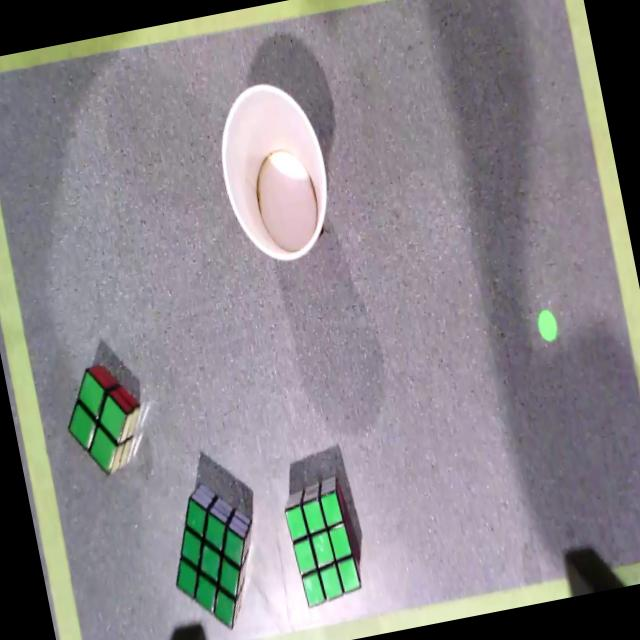cube2-green: (68, 370, 126, 475)
cube3-green: (176, 498, 244, 631), (285, 492, 361, 608)
